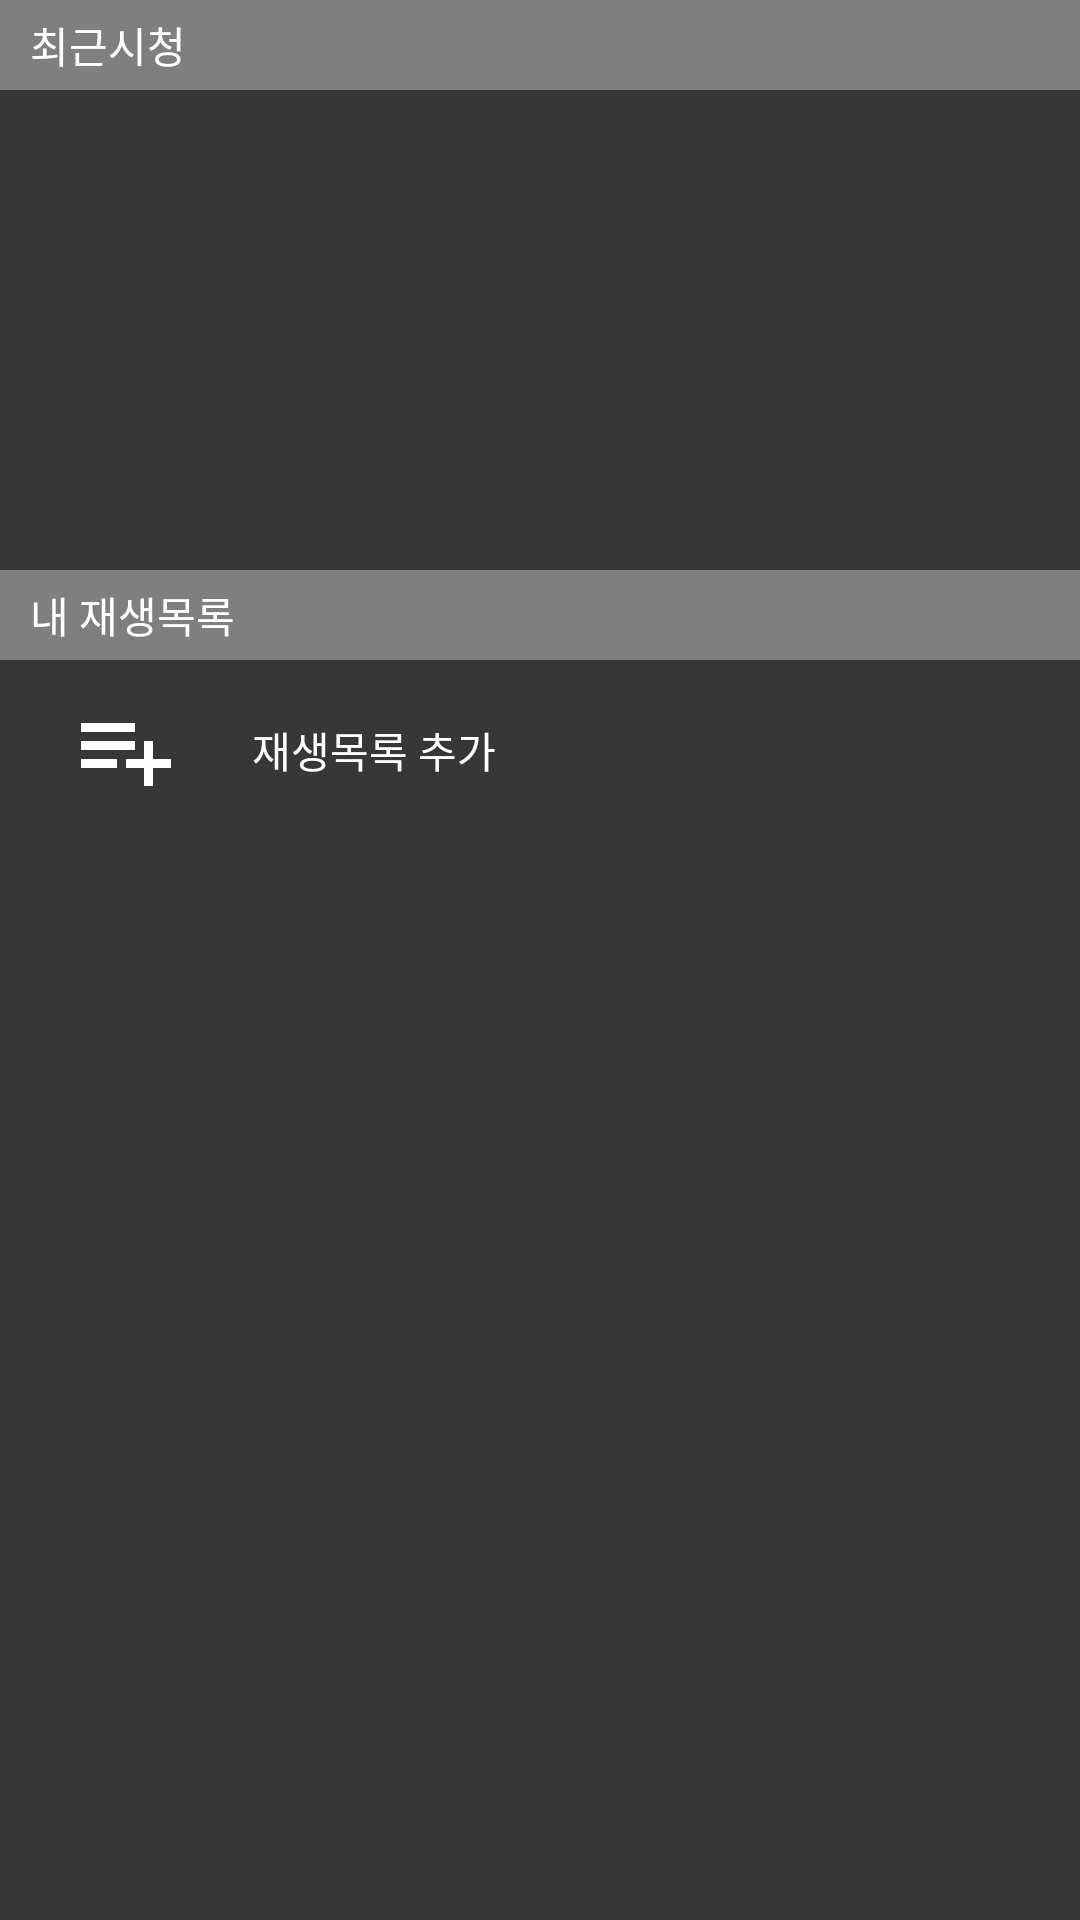

Where icons sit on this 1080 × 1920 app screen, as rect(x1, y1, x2, y2):
playlist add: rect(81, 723, 171, 786)
